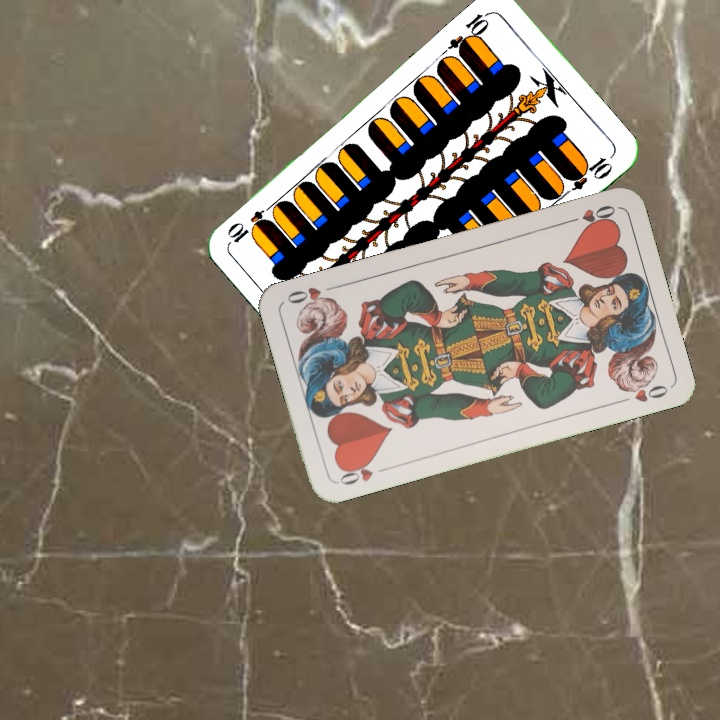E10: (445, 8, 493, 58)
HO: (335, 456, 391, 488), (561, 201, 619, 231)
